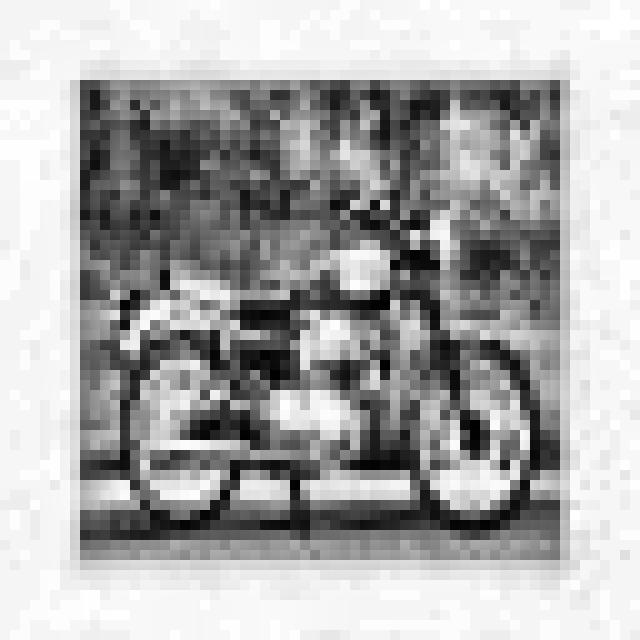mopeds: (114, 172, 539, 542)
